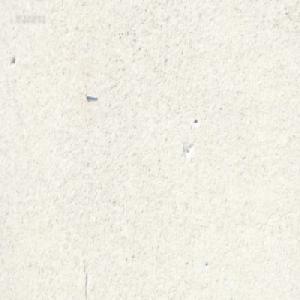Nail: (84, 91, 98, 99)
